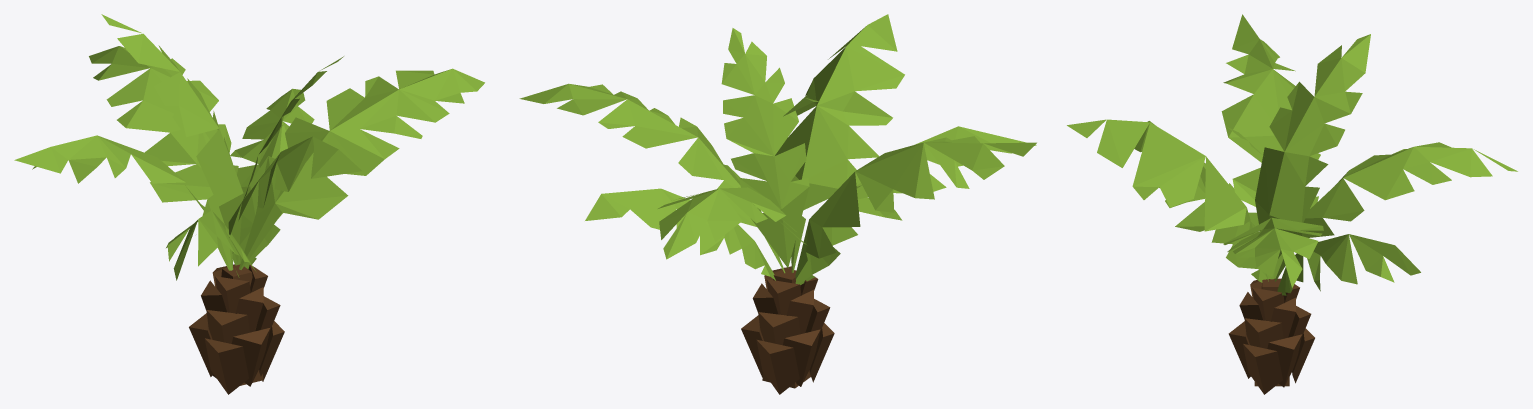
File: tree-palm-mature-c.gltf
3 renders of one model, left to right at view 1: azimuth 30°, elevation 25°; view 2: azimuth 150°, elevation 25°; view 3: azimuth 270°, elevation 25°, orthographic. The views are drawn at different scales.
Visible parts, largest first — view 1: tree-palm-mature-c; view 2: tree-palm-mature-c; view 3: tree-palm-mature-c.
Boxes of the visible parts, box(x1,y1,x2,y2) form: tree-palm-mature-c: box(14, 14, 484, 394); tree-palm-mature-c: box(519, 14, 1036, 394); tree-palm-mature-c: box(1067, 14, 1517, 394).
Bounding box in the file's own units: 0.0451 × 0.0299 × 0.0388.
